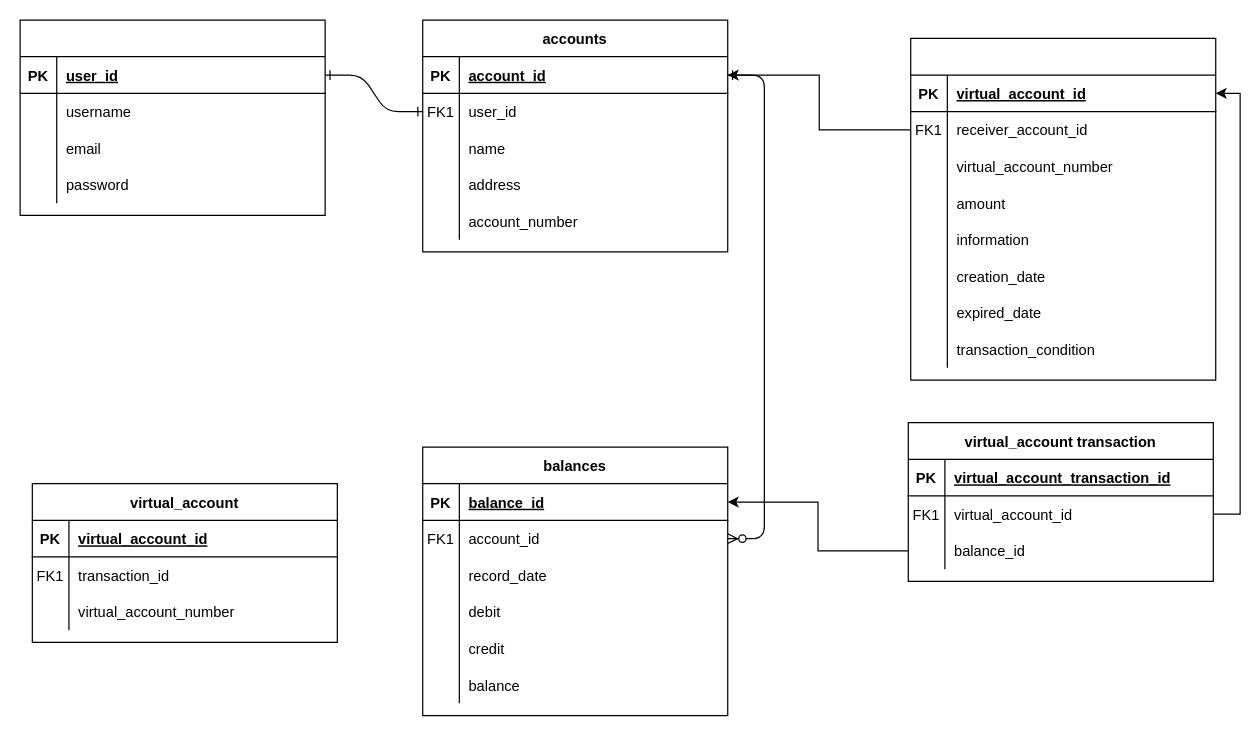
This 1260x736 diagram has some shape labels left out. Here are the shapes that lost their labels. From the top down, the box of each, then its label:
(19, 19, 325, 215): users
(910, 37, 1216, 380): virtual_accounts
